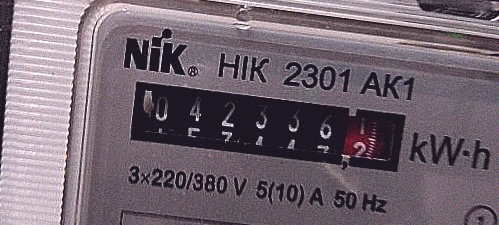0: (151, 92, 170, 122)
1: (353, 112, 368, 136)
2: (218, 97, 238, 128), (349, 138, 367, 158)
3: (282, 102, 302, 134), (250, 100, 269, 130)
4: (185, 92, 205, 123)
6: (316, 109, 336, 141)
screen: (115, 66, 419, 184)
